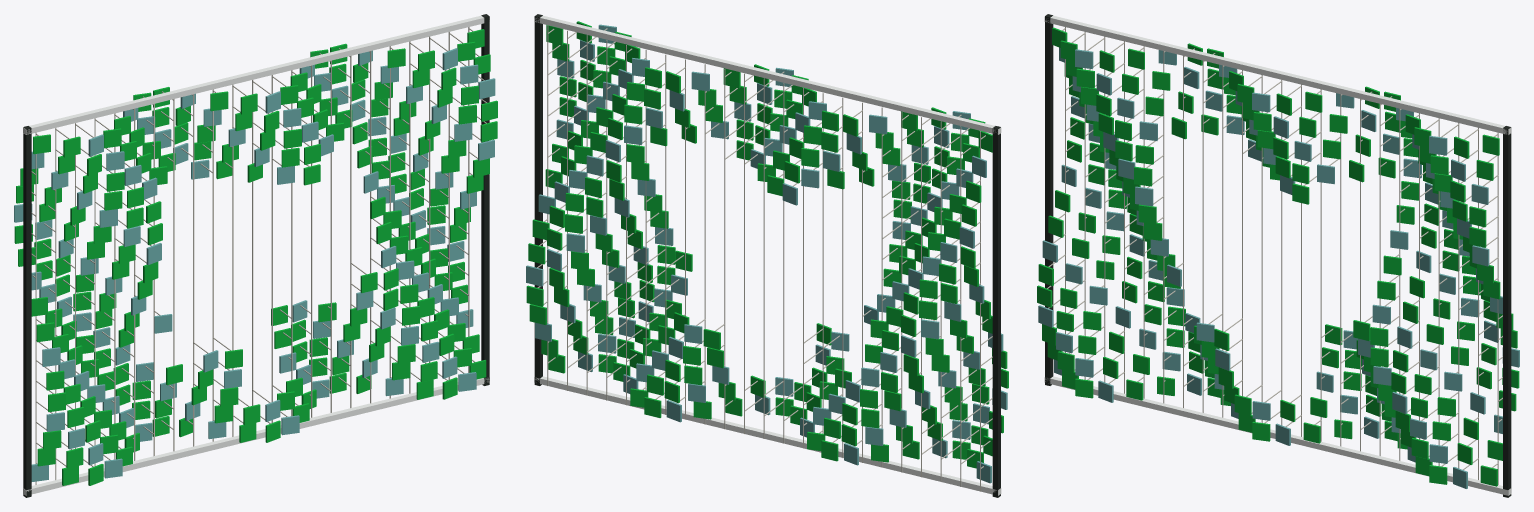
The model's file is gh_contribution_art_v01.glb.
3 renders of one model, left to right at view 1: azimuth 30°, elevation 25°; view 2: azimuth 150°, elevation 25°; view 3: azimuth 330°, elevation 25°, orthographic.
Visible parts, largest first — view 1: Green suspended contribution plate field with cat negative s; view 2: Green suspended contribution plate field with cat negative s; view 3: Green suspended contribution plate field with cat negative s.
Boxes of the visible parts, <box> form: Green suspended contribution plate field with cat negative s: <box>14,14,497,497</box>; Green suspended contribution plate field with cat negative s: <box>526,14,1008,497</box>; Green suspended contribution plate field with cat negative s: <box>1037,14,1519,497</box>.
Size of the model in its own units: 7.9 by 6 by 1.09.
Materials: 1 (1 with a texture image).
